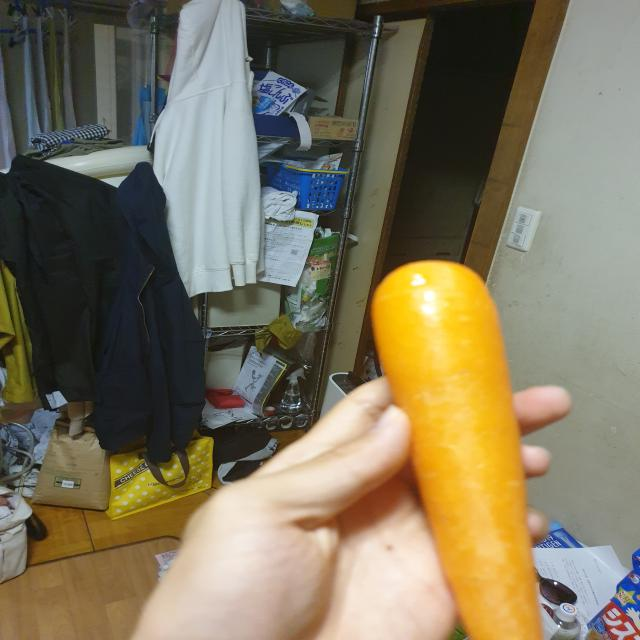Carrot: (359, 250, 564, 638)
